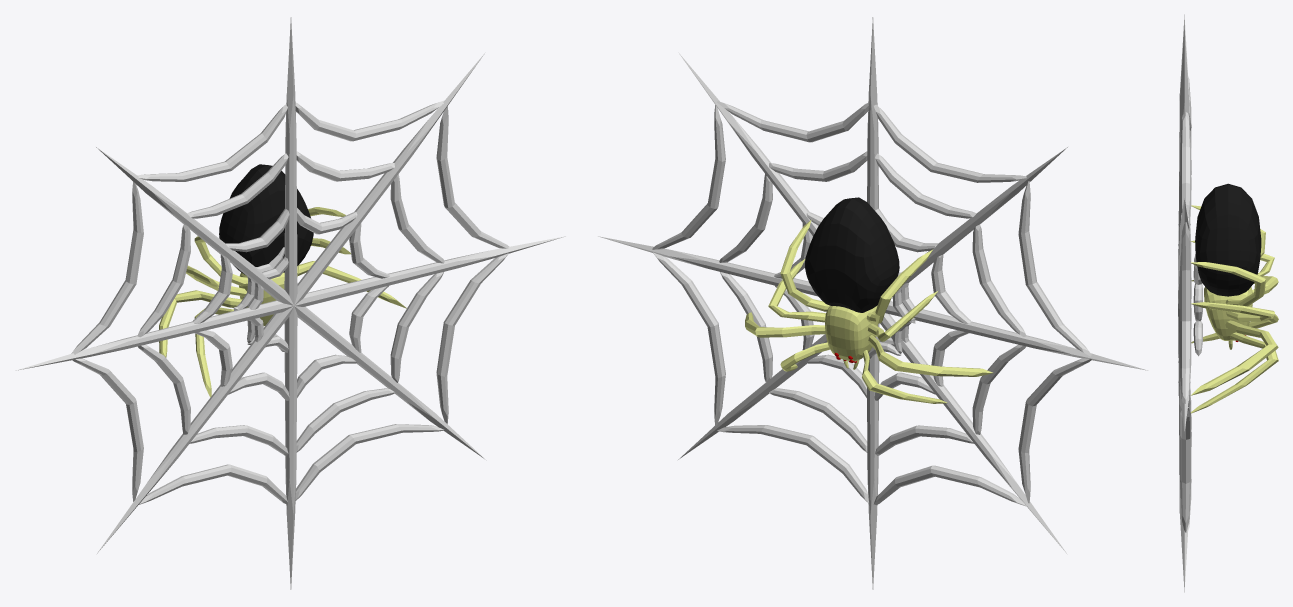
The model's file is 目玉蜘蛛.fbx.
The picture shows the model from 3 angles, left to right: view 1: azimuth 30°, elevation 25°; view 2: azimuth 150°, elevation 25°; view 3: azimuth 270°, elevation 25°; orthographic projection. The views are drawn at different scales.
Parts seen in each view (by area): view 1: 立方体.006, 立方体.005, 立方体.007, 立方体.004, 立方体.001, 立方体.003, 立方体.002, 立方体, 立方体.009, 立方体.008; view 2: 立方体.006, 立方体.005, 立方体, 立方体.009, 立方体.007, 立方体.004, 立方体.003, 立方体.001, 立方体.002, 立方体.027, 立方体.008; view 3: 立方体, 立方体.009, 立方体.006, 立方体.027, 立方体.001, 立方体.002, 立方体.008, 立方体.005, 立方体.003, 立方体.004, 立方体.007.
Boxes of the visible parts, bbox=[...] form: 立方体.006: bbox=[71, 100, 509, 504]; 立方体.005: bbox=[137, 151, 444, 455]; 立方体.007: bbox=[192, 208, 389, 400]; 立方体.004: bbox=[96, 52, 485, 554]; 立方体.001: bbox=[284, 17, 297, 589]; 立方体.003: bbox=[16, 236, 565, 370]; 立方体.002: bbox=[96, 147, 485, 459]; 立方体: bbox=[219, 164, 313, 274]; 立方体.009: bbox=[159, 207, 406, 397]; 立方体.008: bbox=[233, 247, 288, 352]; 立方体.006: bbox=[652, 101, 1091, 506]; 立方体.005: bbox=[719, 151, 1026, 455]; 立方体: bbox=[805, 197, 899, 312]; 立方体.009: bbox=[745, 220, 993, 403]; 立方体.007: bbox=[774, 208, 971, 400]; 立方体.004: bbox=[678, 52, 1067, 554]; 立方体.003: bbox=[598, 236, 1147, 370]; 立方体.001: bbox=[867, 17, 879, 589]; 立方体.002: bbox=[678, 147, 1067, 459]; 立方体.027: bbox=[825, 305, 877, 361]; 立方体.008: bbox=[864, 272, 915, 362]; 立方体: bbox=[1195, 183, 1261, 296]; 立方体.009: bbox=[1190, 205, 1278, 413]; 立方体.006: bbox=[1180, 75, 1191, 532]; 立方体.027: bbox=[1204, 287, 1252, 340]; 立方体.001: bbox=[1178, 25, 1190, 298]; 立方体.002: bbox=[1178, 14, 1190, 592]; 立方体.008: bbox=[1193, 254, 1202, 356]; 立方体.005: bbox=[1179, 176, 1190, 439]; 立方体.003: bbox=[1178, 303, 1188, 433]; 立方体.004: bbox=[1178, 198, 1189, 303]; 立方体.007: bbox=[1178, 224, 1190, 386].
Bounding box in the file's own units: 371 × 371 × 60.75.
